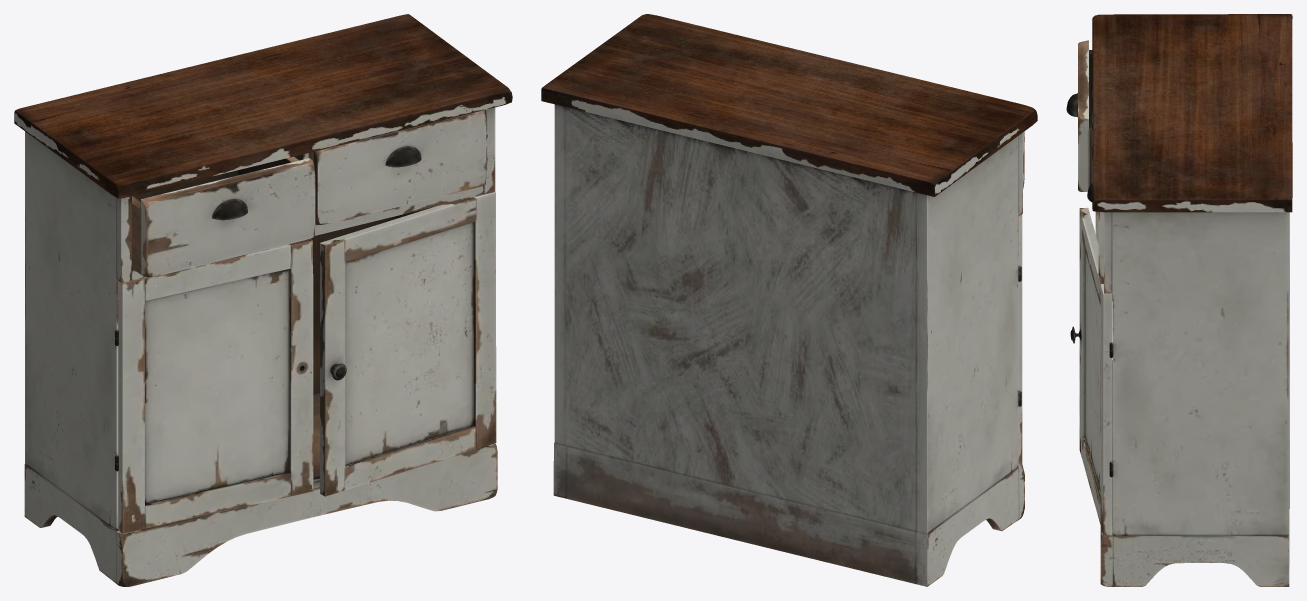
File: cabinet-white.glb
The picture shows the model from 3 angles, left to right: view 1: azimuth 30°, elevation 25°; view 2: azimuth 150°, elevation 25°; view 3: azimuth 270°, elevation 25°; orthographic projection. The views are drawn at different scales.
Visible parts, largest first — view 1: painted_wooden_cabinet; view 2: painted_wooden_cabinet; view 3: painted_wooden_cabinet.
Boxes of the visible parts, x1,y1,x2,y2 form: painted_wooden_cabinet: [14, 14, 512, 586]; painted_wooden_cabinet: [541, 14, 1037, 586]; painted_wooden_cabinet: [1066, 14, 1292, 586].
Bounding box in the file's own units: 1.2 × 1.18 × 0.615.
Materials: 1 (1 with a texture image).
